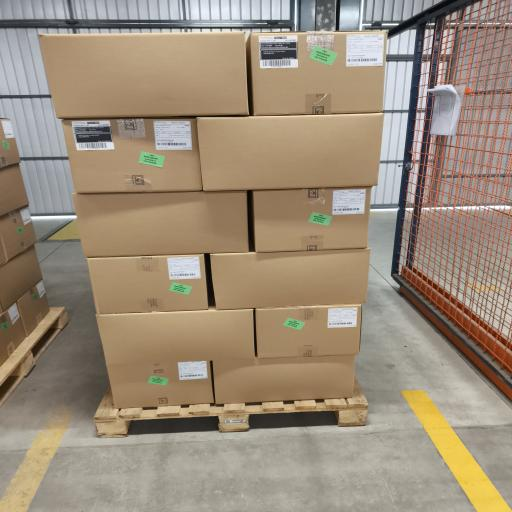pallet: (95, 379, 367, 437), (0, 307, 67, 406)
